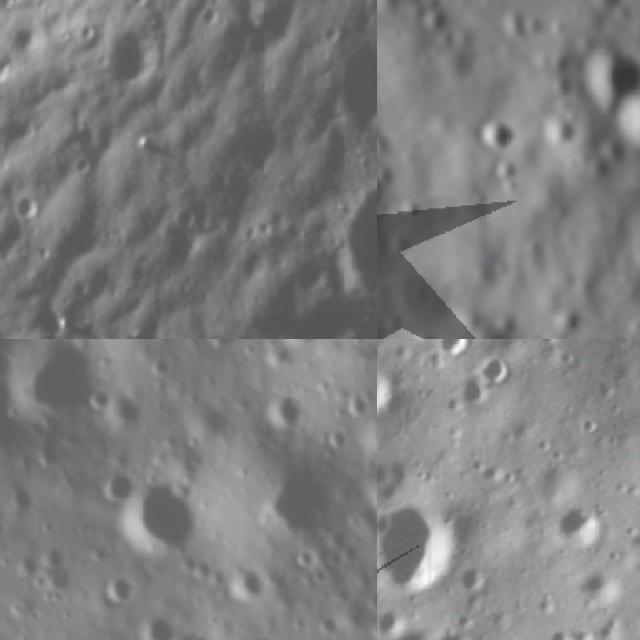crater: (377, 501, 466, 601), (93, 10, 173, 101), (110, 483, 202, 561), (568, 30, 640, 127), (336, 161, 377, 315), (323, 16, 377, 129), (244, 463, 331, 531), (530, 98, 588, 160), (606, 79, 640, 171), (469, 107, 525, 162), (552, 501, 609, 553), (410, 0, 463, 44), (482, 148, 529, 196), (574, 565, 624, 609), (377, 456, 420, 507), (96, 468, 140, 510), (268, 395, 308, 434), (377, 360, 400, 421), (476, 351, 520, 382), (452, 373, 492, 407), (134, 609, 177, 640), (99, 572, 136, 606), (423, 624, 481, 640), (81, 385, 114, 413), (593, 616, 627, 640), (146, 354, 175, 380), (435, 339, 474, 357), (361, 473, 377, 516), (314, 613, 341, 636), (580, 410, 601, 436), (277, 339, 320, 351), (545, 625, 578, 640), (365, 411, 377, 452), (632, 352, 640, 384)
